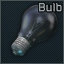Light bulb: (0, 0, 64, 64)
